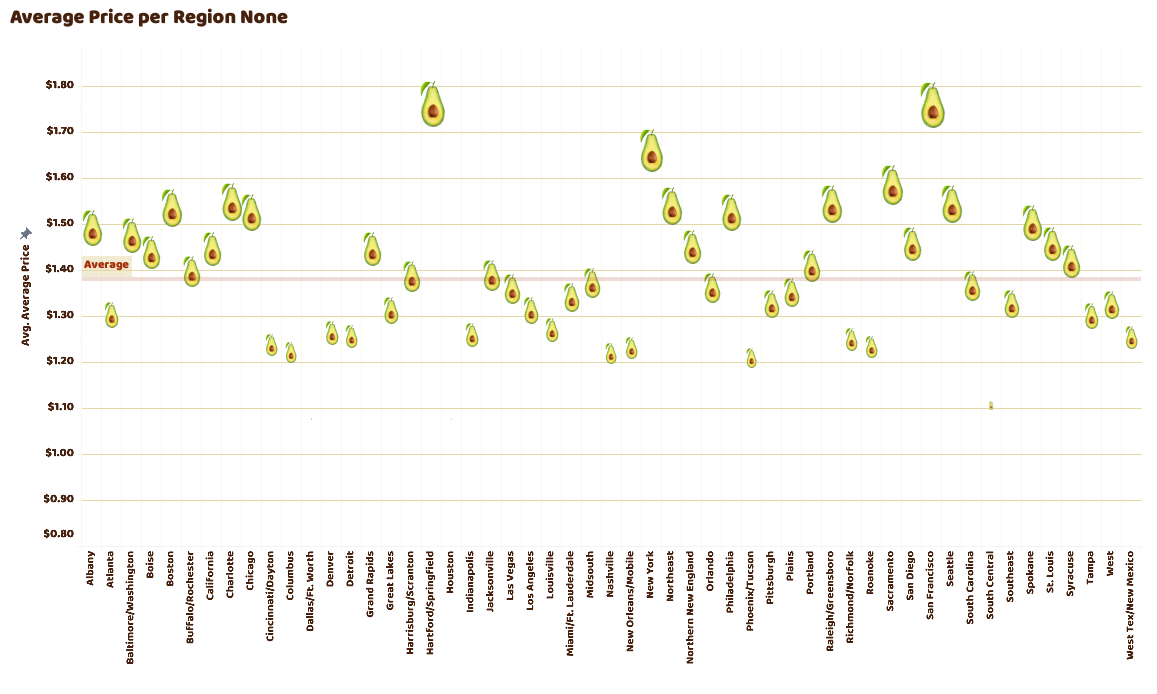

This screenshot's page, from the dashboard's own definition file:
{"tool":"tableau","page":{"name":"Dashboard - Average Prices","canvas":[1016,964],"ordinal":0},"visuals":[{"type":"worksheet","param":"Image/Cado_Creations_logo.png","box":[1,9,587,176]},{"type":"worksheet","box":[816,32,164,52]}]}

Visuals, with their boxes on the page's 1016x964 design canvas (x1, y1, x2, y2). These are canvas units, not pixel positions in the 1157x694 screenshot, which may show the page scaled, cropped or inside an application window:
worksheet: l=1, t=9, r=588, b=185
worksheet: l=816, t=32, r=980, b=84
